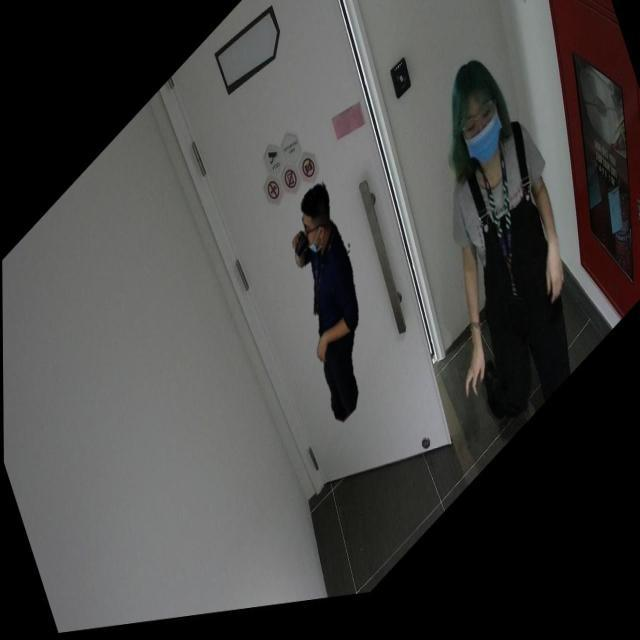hairnet: (292, 200, 330, 279)
